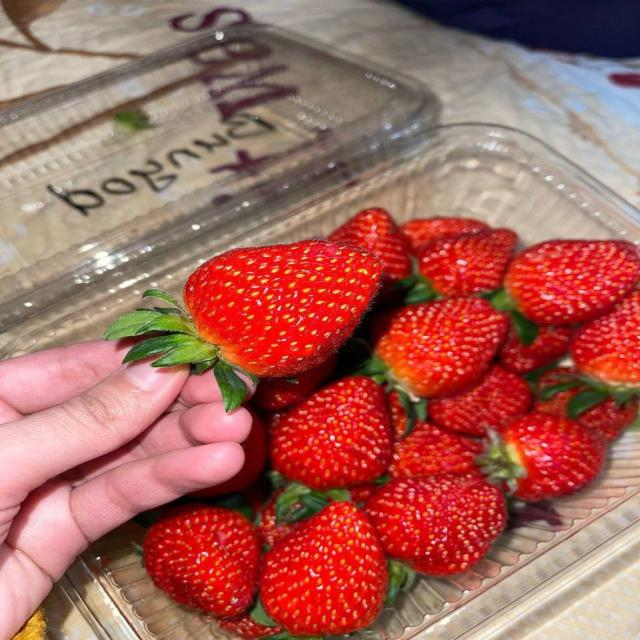strawberry: (106, 240, 381, 410), (260, 502, 387, 636), (365, 473, 506, 575), (270, 376, 393, 489), (375, 297, 508, 397), (144, 505, 259, 616), (505, 240, 639, 324), (480, 413, 606, 500), (256, 483, 379, 547), (429, 365, 531, 437), (190, 408, 266, 498), (571, 291, 639, 391), (419, 229, 517, 296), (329, 208, 411, 285), (388, 422, 481, 478), (252, 355, 336, 411), (499, 325, 574, 374), (401, 217, 489, 253), (534, 368, 587, 416), (256, 490, 296, 547), (217, 613, 283, 639), (387, 391, 408, 441), (348, 483, 379, 502)
